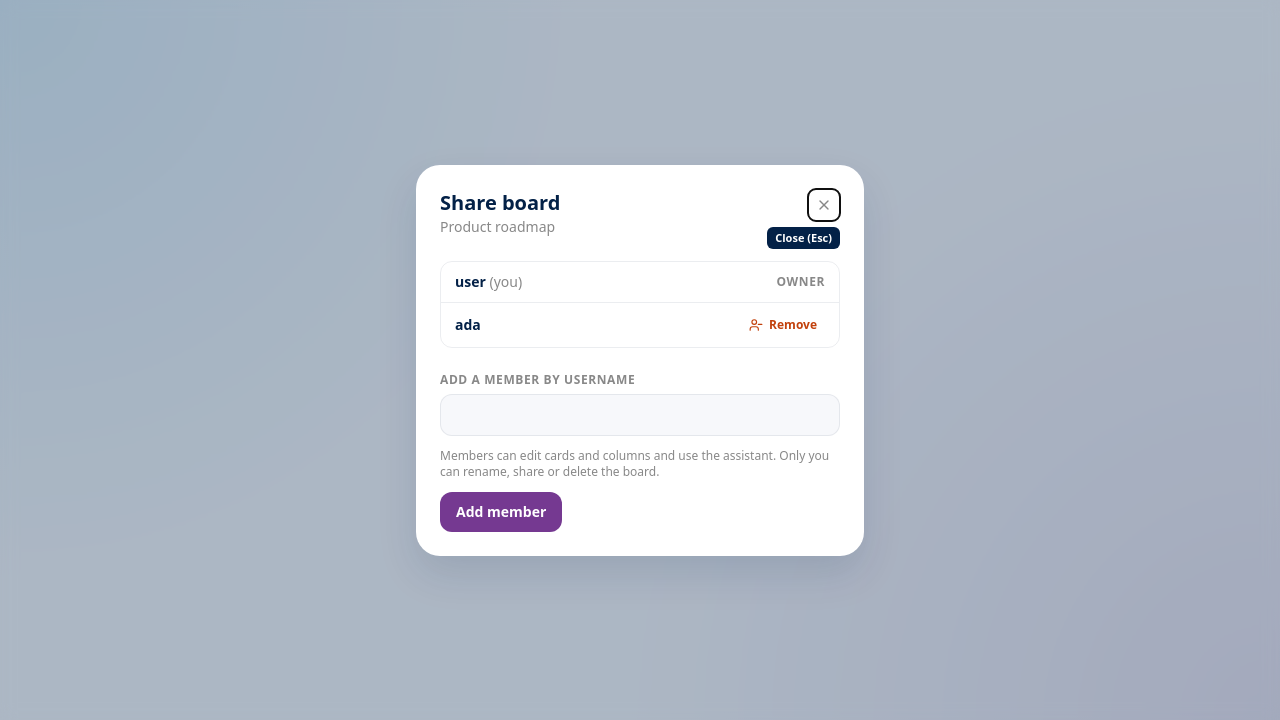
ShareDialog › shows why a member could not be added
The width and height of the screenshot is (1280, 720).
Type "nobody" into the field labelled "Add a member by username" at (640, 414), box [440, 394, 840, 436]
Then press Enter
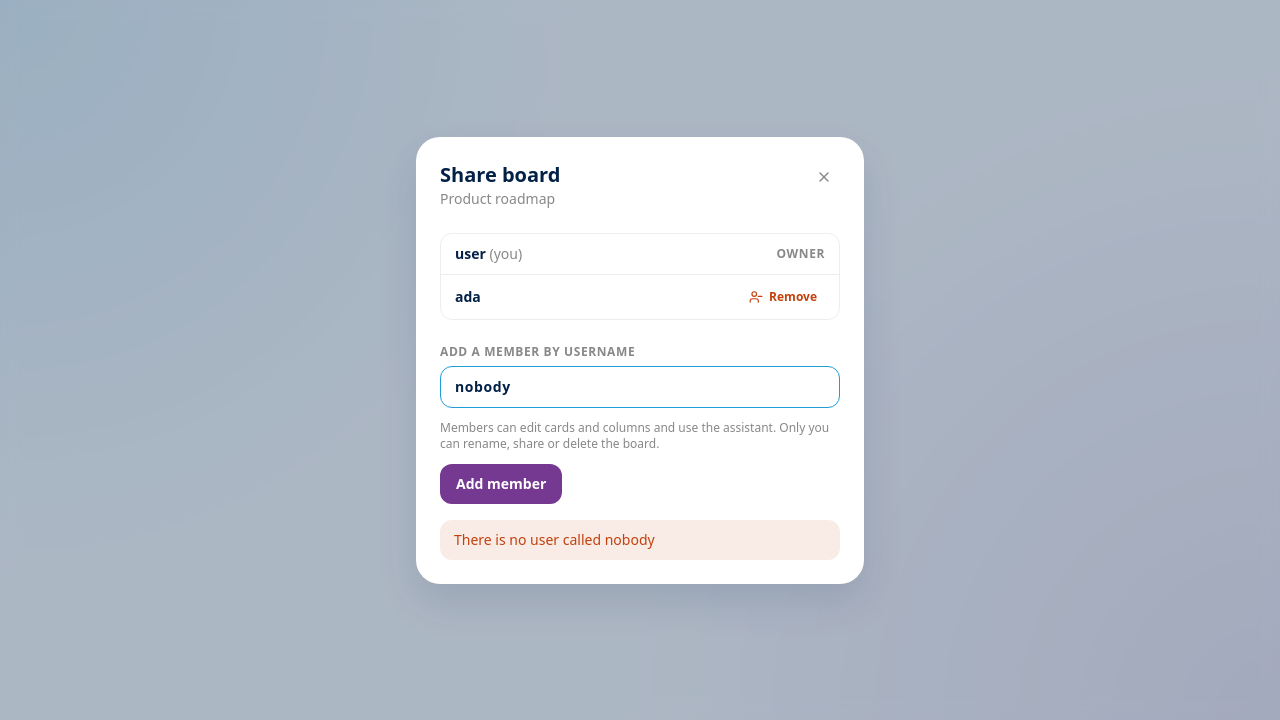
Check: the message reads "There is no user called nobody", box [454, 530, 655, 548]
Click the button "Add member" at (501, 484), box [440, 464, 562, 504]
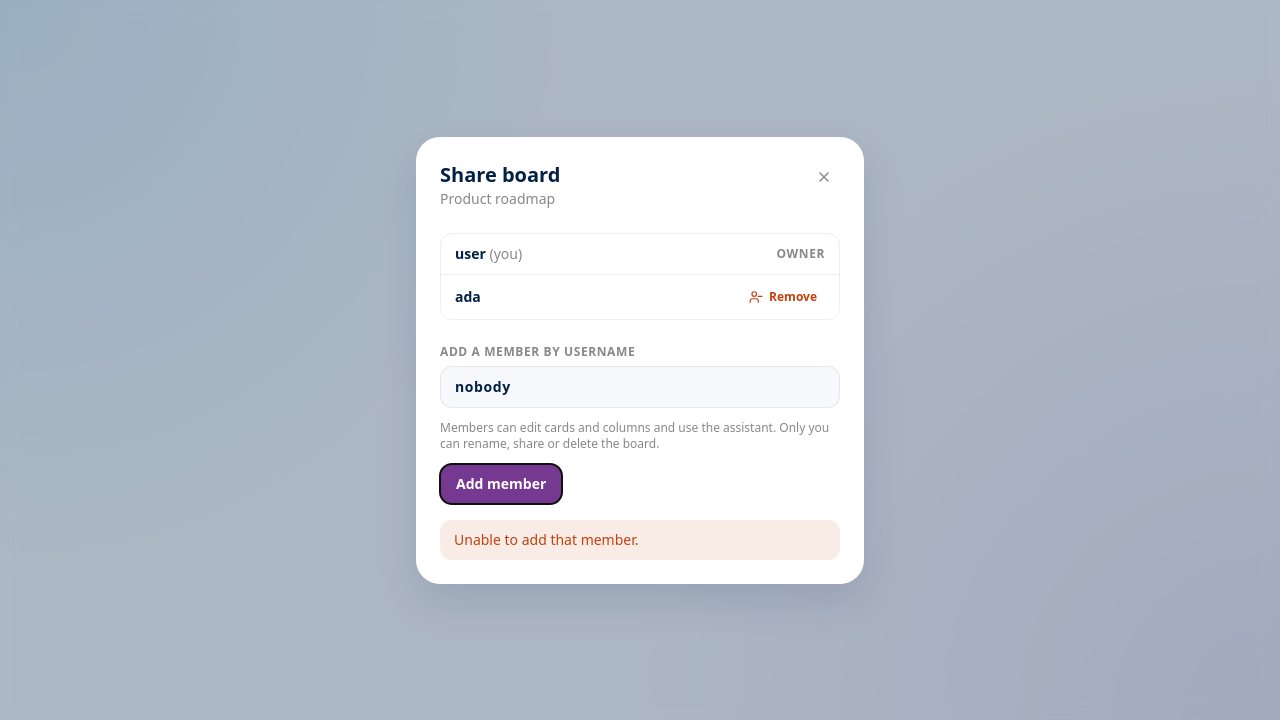
Check: the message reads "Unable to add that member.", box [454, 530, 638, 548]
